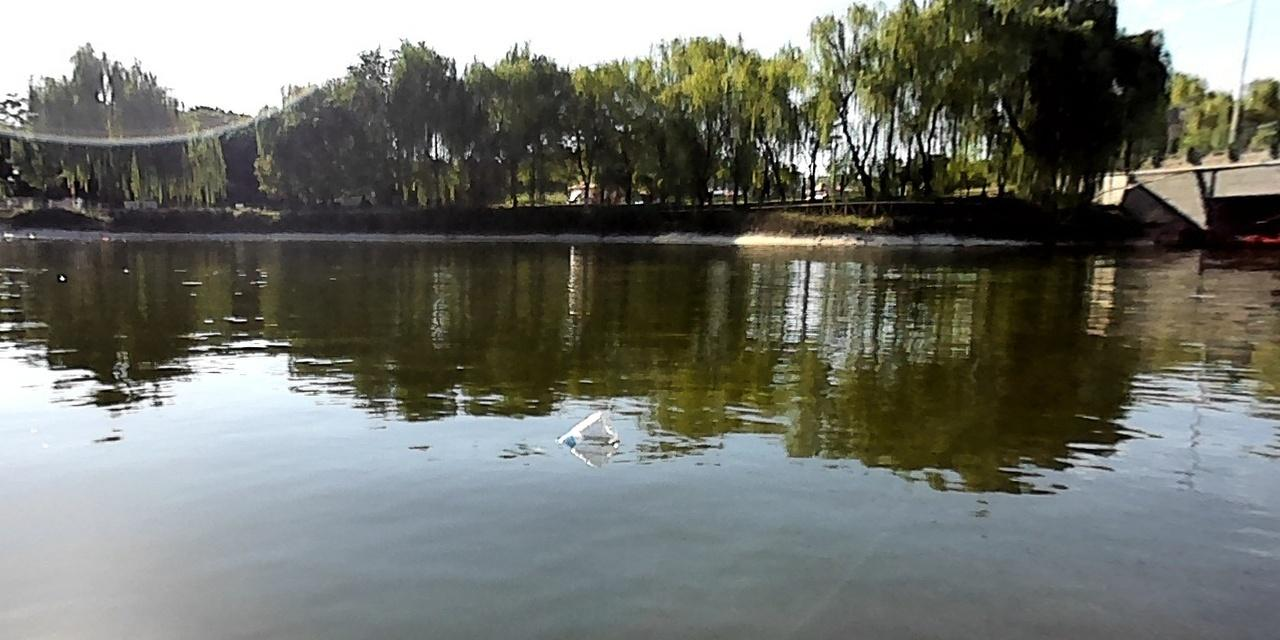bottle: (554, 412, 615, 451)
